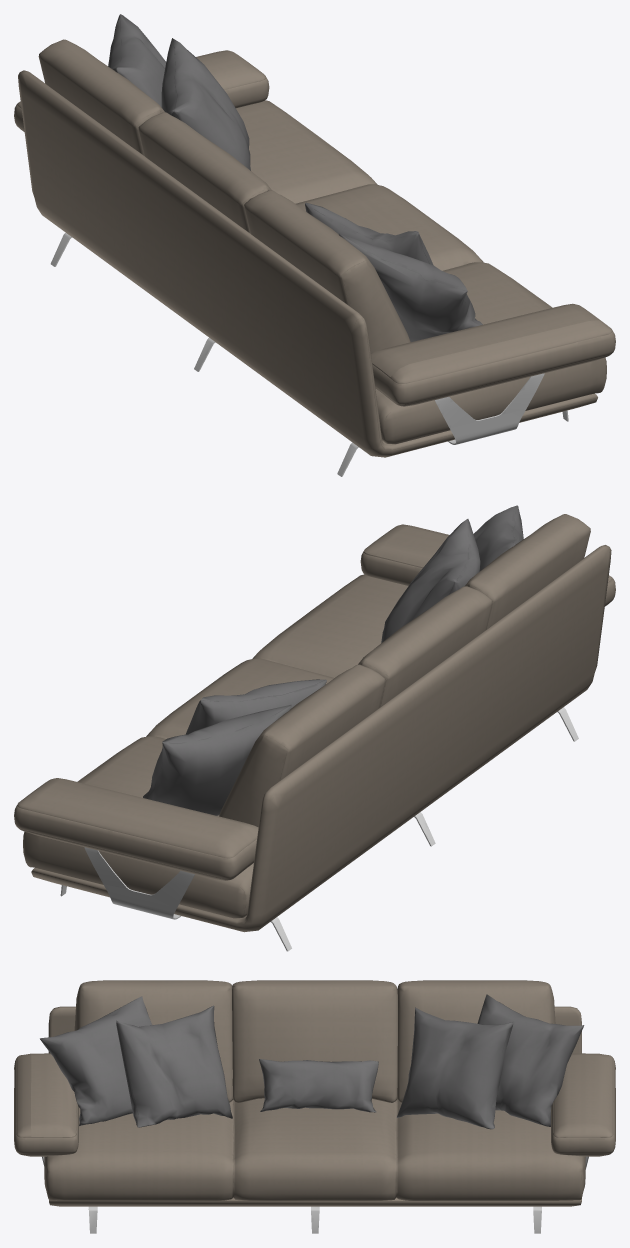
The model's file is lounge_sofa.gltf.
3 renders of one model, top to bottom at view 1: azimuth 30°, elevation 25°; view 2: azimuth 150°, elevation 25°; view 3: azimuth 270°, elevation 25°, orthographic. The views are drawn at different scales.
Parts seen in each view (by area): view 1: SM_Modern_Sofa_2; view 2: SM_Modern_Sofa_2; view 3: SM_Modern_Sofa_2.
Boxes of the visible parts, x1,y1,x2,y2 form: SM_Modern_Sofa_2: (14,14,615,476); SM_Modern_Sofa_2: (14,505,615,951); SM_Modern_Sofa_2: (14,980,615,1233).
Size of the model in its own units: 1.04 by 0.8559 by 2.76.
1 material, 1 textured.
